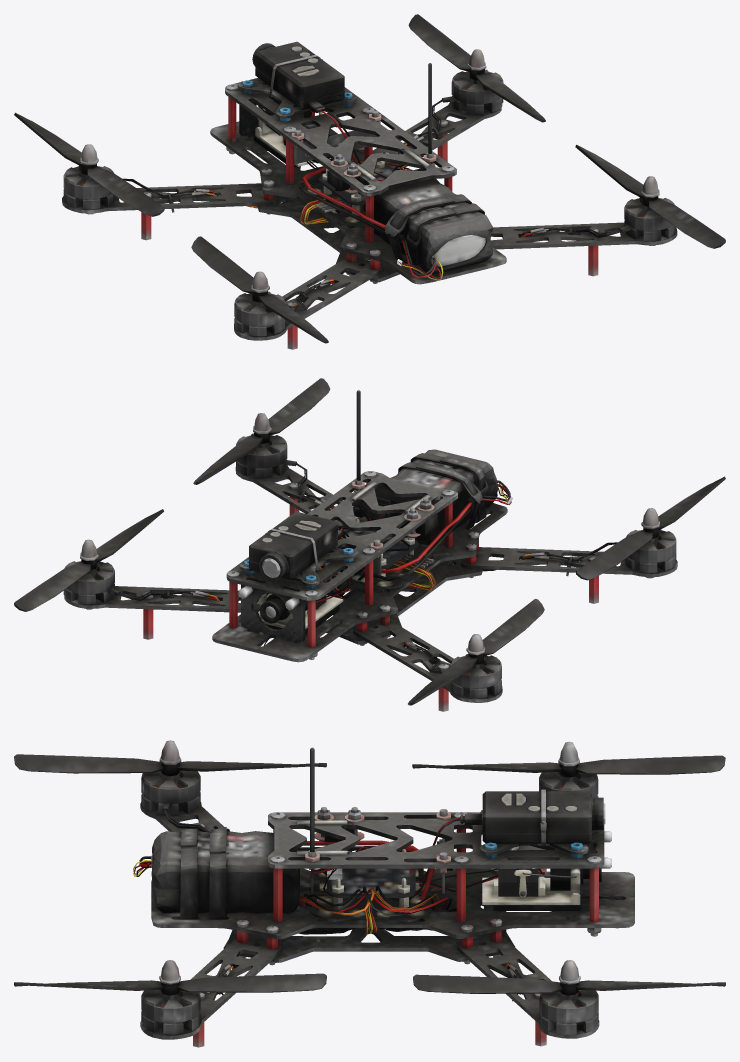
The model's file is inside_drone.glb.
The picture shows the model from 3 angles, top to bottom: view 1: azimuth 30°, elevation 25°; view 2: azimuth 150°, elevation 25°; view 3: azimuth 270°, elevation 25°; orthographic projection. The views are drawn at different scales.
Parts seen in each view (by area): view 1: Drone01; view 2: Drone01; view 3: Drone01.
Boxes of the visible parts, <box> form: Drone01: <box>14,14,725,349</box>; Drone01: <box>14,378,725,711</box>; Drone01: <box>14,740,725,1047</box>.
Bounding box in the file's own units: 0.1296 × 0.0573 × 0.159.
Materials: 1 (1 with a texture image).
